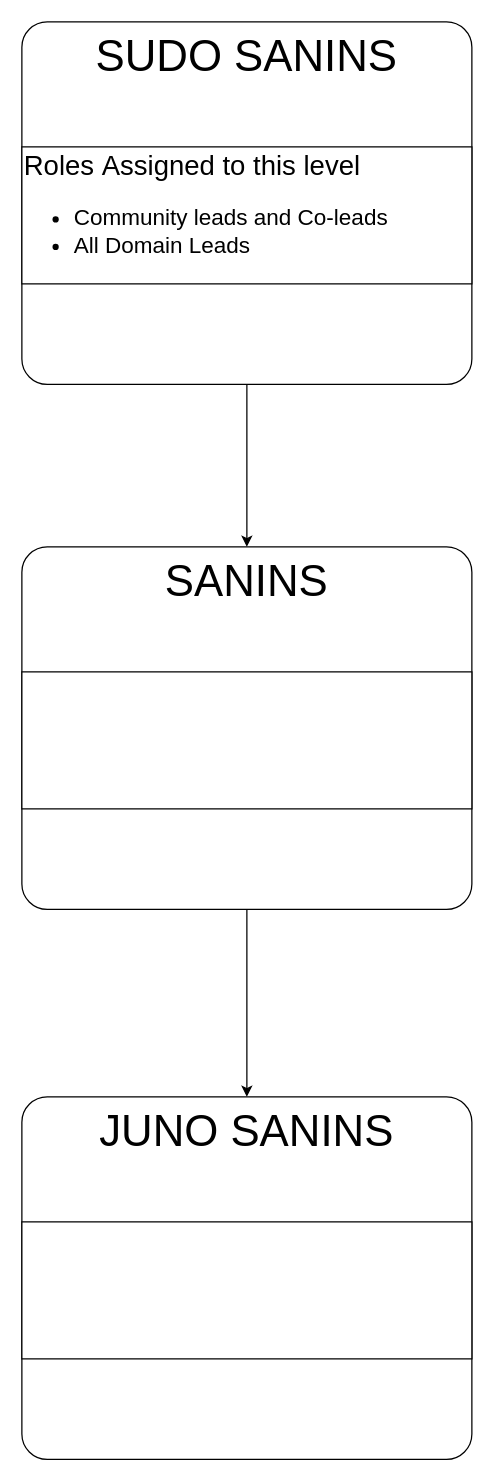
Image size: 494x1481. Some labels were removed from this diagram. Here are the shapes that lost their labels. From the top down, the centre of each, then its label:
At point 246,740: "Roles Assigned to this level All Domain Co-Lead All Domain Team members".
At point 246,1290: "Roles Assigned to this level N/A Includes budding tech enthusiasts".
